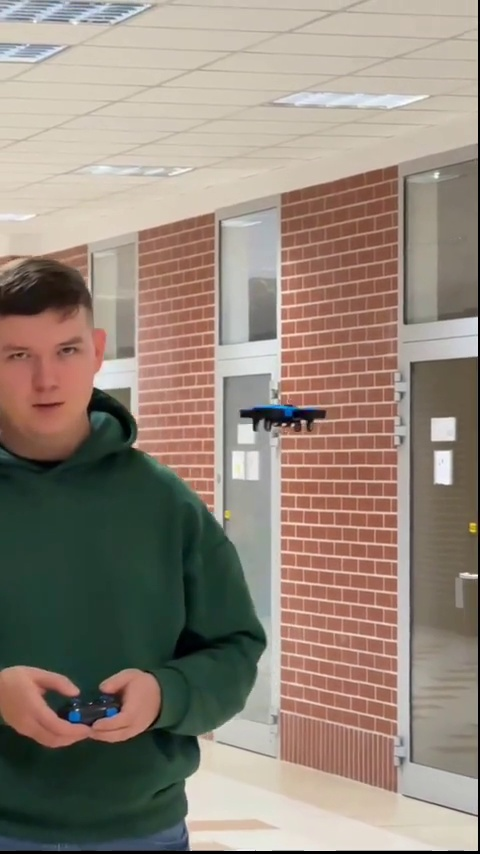drone: (238, 400, 325, 433)
no vest: (0, 257, 270, 848)
